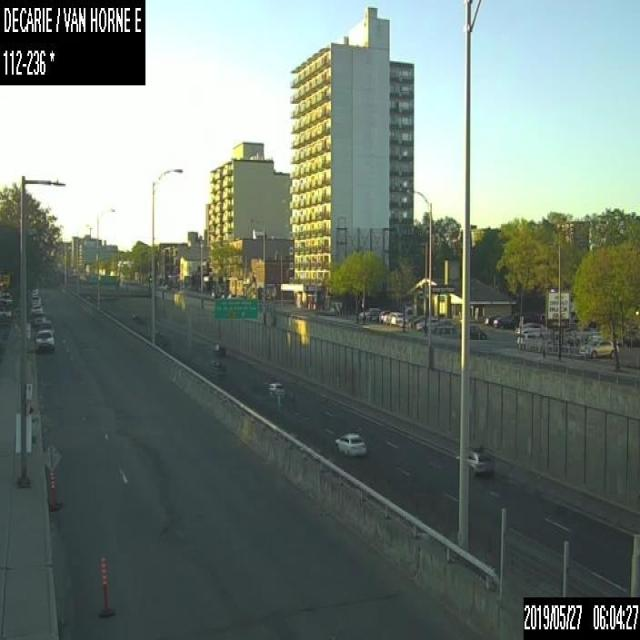construction: (42, 441, 58, 511), (99, 555, 114, 617)
vehicle: (334, 431, 364, 456), (467, 447, 492, 476), (579, 338, 618, 356), (34, 328, 54, 349), (516, 332, 539, 348), (468, 318, 486, 338), (493, 314, 518, 328), (520, 323, 544, 336), (357, 306, 379, 320), (416, 316, 437, 329), (209, 358, 226, 374), (267, 381, 284, 395), (484, 313, 501, 326), (212, 340, 225, 356), (34, 310, 44, 325), (38, 320, 50, 331)
